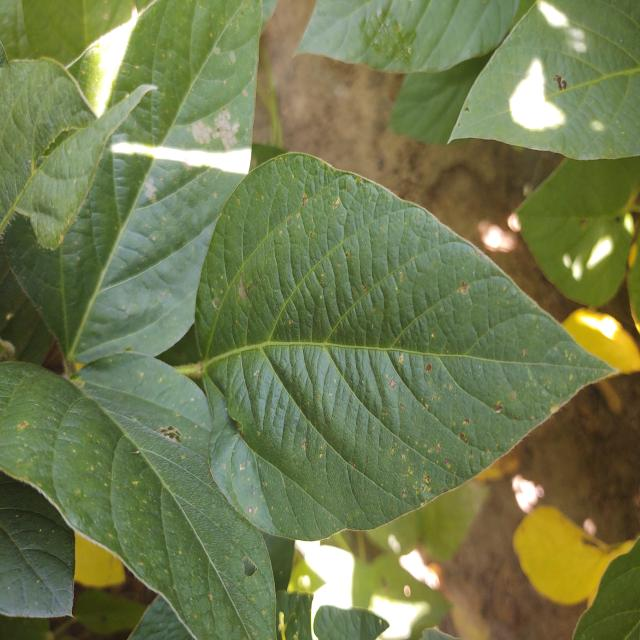Soybean: (0, 0, 614, 640)
downey_mildew: (191, 107, 241, 151), (129, 420, 186, 445), (230, 273, 254, 311), (454, 271, 477, 308), (8, 413, 39, 439), (241, 556, 258, 577), (553, 73, 567, 91), (212, 297, 221, 310), (493, 402, 502, 413), (235, 417, 243, 429), (333, 196, 341, 208), (424, 363, 432, 373), (302, 193, 308, 205), (389, 378, 396, 388), (398, 353, 404, 364), (286, 217, 293, 226), (130, 449, 140, 455), (399, 271, 404, 283), (362, 284, 367, 294), (302, 441, 307, 450), (464, 106, 470, 113), (344, 251, 349, 258)
